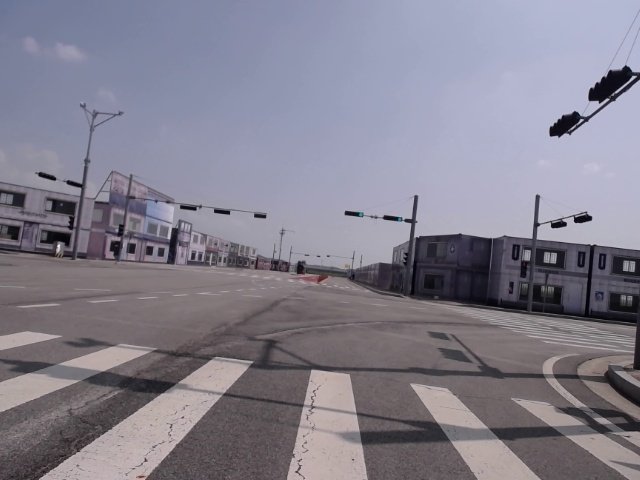straight_green_4: (344, 211, 364, 218), (383, 215, 404, 221)
